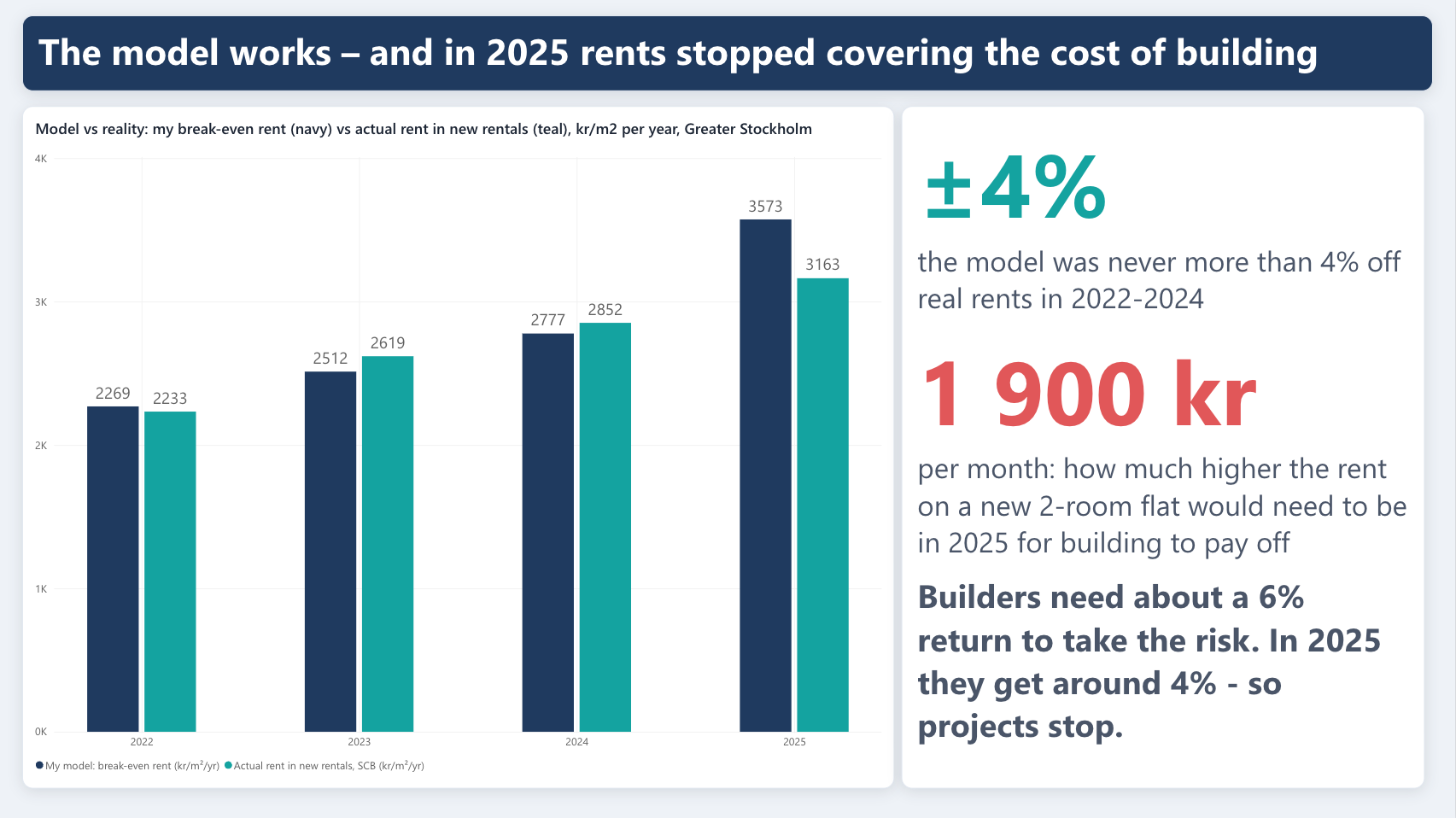

What the dashboard file says about the page in this screenshot:
{"tool":"powerbi","page":{"name":"5. The answer","canvas":[1920,1080],"ordinal":5},"visuals":[{"type":"textbox","box":[30,20,1860,90],"z":0},{"type":"textbox","box":[30,115,1860,100],"z":1000},{"type":"textbox","box":[30,250,590,560],"z":2000},{"type":"textbox","box":[665,250,590,560],"z":3000},{"type":"textbox","box":[1300,250,590,560],"z":4000},{"type":"textbox","box":[30,820,1860,200],"z":5000}]}

Visuals, with their boxes in screenshot pixels (x1, y1, x2, y2), scaled from the page's 1920x1080 canvas onto the 1456x818 screenshot:
textbox: BBox(23, 15, 1433, 83)
textbox: BBox(23, 87, 1433, 163)
textbox: BBox(23, 189, 470, 614)
textbox: BBox(504, 189, 952, 614)
textbox: BBox(986, 189, 1433, 614)
textbox: BBox(23, 621, 1433, 773)
